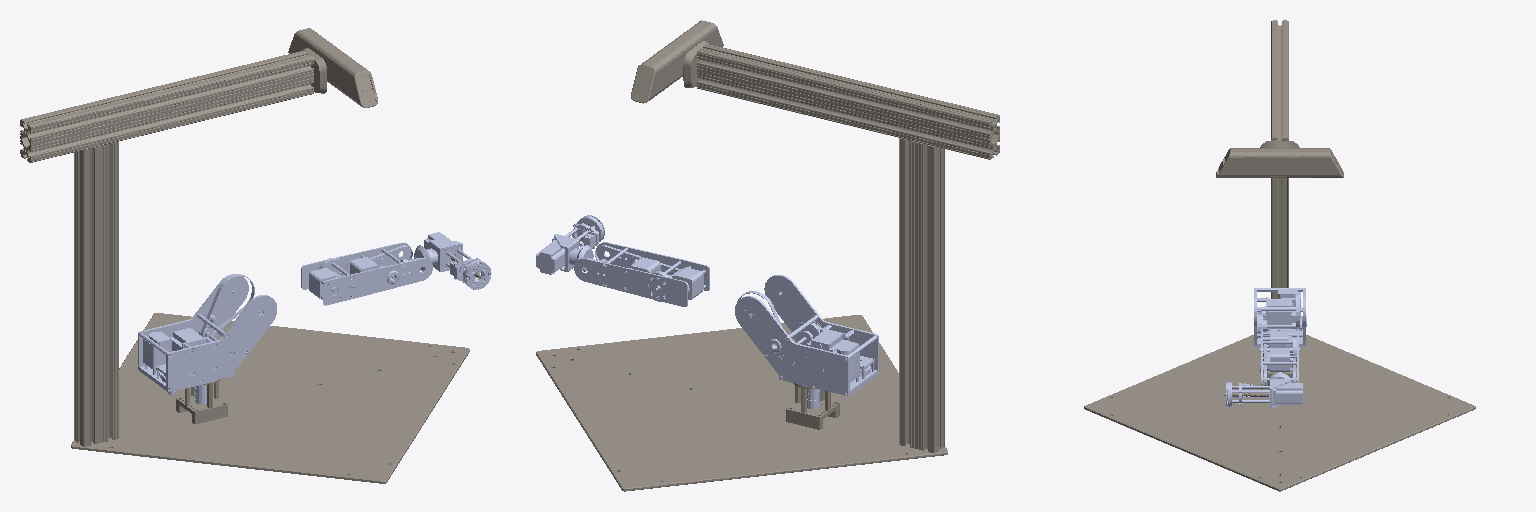
robot.urdf — dorna_2_config:
<?xml version="1.0" encoding="utf-8"?>
<!-- This URDF was automatically created by SolidWorks to URDF Exporter! Originally created by [author] ([email redacted]) 
     Commit Version: 1.6.0-1-g15f4949  Build Version: 1.6.7594.29634
     For more information, please see http://wiki.ros.org/sw_urdf_exporter -->
<robot
  name="dorna_2_config">
  <link
    name="base_link">
    <inertial>
      <origin
        xyz="0.12698 1.4251E-06 0.055207"
        rpy="0 0 0" />
      <mass
        value="20.928" />
      <inertia
        ixx="0"
        ixy="0"
        ixz="0"
        iyy="0"
        iyz="0"
        izz="0" />
    </inertial>
    <visual>
      <origin
        xyz="0 0 0"
        rpy="0 0 0" />
      <geometry>
        <mesh
          filename="package://dorna_2_config/meshes/base_link.STL" />
      </geometry>
      <material
        name="">
        <color
          rgba="0.64706 0.61961 0.58824 1" />
      </material>
    </visual>
    <collision>
      <origin
        xyz="0 0 0"
        rpy="0 0 0" />
      <geometry>
        <mesh
          filename="package://dorna_2_config/meshes/base_link_col.STL" />
      </geometry>
    </collision>
  </link>
  <link
    name="link_1">
    <inertial>
      <origin
        xyz="-0.022037 7.1084E-05 0.13277"
        rpy="0 0 0" />
      <mass
        value="0.70203" />
      <inertia
        ixx="0.0016762"
        ixy="0.00012689"
        ixz="-0.00047838"
        iyy="0.0028093"
        iyz="-3.1578E-05"
        izz="0.0029334" />
    </inertial>
    <visual>
      <origin
        xyz="0 0 0"
        rpy="0 0 0" />
      <geometry>
        <mesh
          filename="package://dorna_2_config/meshes/link_1.STL" />
      </geometry>
      <material
        name="">
        <color
          rgba="0.79216 0.81961 0.93333 1" />
      </material>
    </visual>
    <collision>
      <origin
        xyz="0 0 0"
        rpy="0 0 0" />
      <geometry>
        <mesh
          filename="package://dorna_2_config/meshes/link_1_col.STL" />
      </geometry>
    </collision>
  </link>
  <joint
    name="joint_0"
    type="revolute">
    <origin
      xyz="0 0 0"
      rpy="0 0 0" />
    <parent
      link="base_link" />
    <child
      link="link_1" />
    <axis
      xyz="0 0 1" />
    <limit
      lower="-2.7925"
      upper="3.1416"
      effort="10"
      velocity="10.472" />
  </joint>
  <link
    name="link_2">
    <inertial>
      <origin
        xyz="0.033004 -0.047997 1.1969E-06"
        rpy="0 0 0" />
      <mass
        value="0.32464" />
      <inertia
        ixx="0.00048989"
        ixy="6.9763E-05"
        ixz="1.952E-08"
        iyy="0.0017419"
        iyz="-9.866E-09"
        izz="0.0020909" />
    </inertial>
    <visual>
      <origin
        xyz="0 0 0"
        rpy="0 0 0" />
      <geometry>
        <mesh
          filename="package://dorna_2_config/meshes/link_2.STL" />
      </geometry>
      <material
        name="">
        <color
          rgba="0.79216 0.81961 0.93333 1" />
      </material>
    </visual>
    <collision>
      <origin
        xyz="0 0 0"
        rpy="0 0 0" />
      <geometry>
        <mesh
          filename="package://dorna_2_config/meshes/link_2_col.STL" />
      </geometry>
    </collision>
  </link>
  <joint
    name="joint_1"
    type="revolute">
    <origin
      xyz="0.095476 0.0508 0.20647"
      rpy="0 0 0" />
    <parent
      link="link_1" />
    <child
      link="link_2" />
    <axis
      xyz="0 1 0" />
    <limit
      lower="-3.1415"
      upper="1.5708"
      effort="10"
      velocity="7.854" />
  </joint>
  <link
    name="link_3">
    <inertial>
      <origin
        xyz="0.021064 -0.042837 -6.2521E-08"
        rpy="0 0 0" />
      <mass
        value="0.27313" />
      <inertia
        ixx="0.00021713"
        ixy="2.2442E-05"
        ixz="3.6407E-08"
        iyy="0.00085068"
        iyz="-1.2633E-08"
        izz="0.00098072" />
    </inertial>
    <visual>
      <origin
        xyz="0 0 0"
        rpy="0 0 0" />
      <geometry>
        <mesh
          filename="package://dorna_2_config/meshes/link_3.STL" />
      </geometry>
      <material
        name="">
        <color
          rgba="0.79216 0.81961 0.93333 1" />
      </material>
    </visual>
    <collision>
      <origin
        xyz="0 0 0"
        rpy="0 0 0" />
      <geometry>
        <mesh
          filename="package://dorna_2_config/meshes/link_3_col.STL" />
      </geometry>
    </collision>
  </link>
  <joint
    name="joint_2"
    type="revolute">
    <origin
      xyz="0.2032 -0.00635 0"
      rpy="0 0 0" />
    <parent
      link="link_2" />
    <child
      link="link_3" />
    <axis
      xyz="0 1 0" />
    <limit
      lower="-2.4784"
      upper="2.4784"
      effort="10"
      velocity="7.854" />
  </joint>
  <link
    name="link_4">
    <inertial>
      <origin
        xyz="-5.9653E-10 -0.041275 -1.0071E-09"
        rpy="0 0 0" />
      <mass
        value="0.076836" />
      <inertia
        ixx="5.639E-05"
        ixy="-2.2838E-13"
        ixz="-6.7695E-14"
        iyy="1.719E-05"
        iyz="1.776E-12"
        izz="5.5885E-05" />
    </inertial>
    <visual>
      <origin
        xyz="0 0 0"
        rpy="0 0 0" />
      <geometry>
        <mesh
          filename="package://dorna_2_config/meshes/link_4.STL" />
      </geometry>
      <material
        name="">
        <color
          rgba="0.79216 0.81961 0.93333 1" />
      </material>
    </visual>
    <collision>
      <origin
        xyz="0 0 0"
        rpy="0 0 0" />
      <geometry>
        <mesh
          filename="package://dorna_2_config/meshes/link_4_col.STL" />
      </geometry>
    </collision>
  </link>
  <joint
    name="joint_3"
    type="revolute">
    <origin
      xyz="0.1524 -0.003175 0"
      rpy="0 0 0" />
    <parent
      link="link_3" />
    <child
      link="link_4" />
    <axis
      xyz="0 -1 0" />
    <limit
      lower="-2.3562"
      upper="2.3562"
      effort="10"
      velocity="34.907" />
  </joint>
  <link
    name="link_5">
    <inertial>
      <origin
        xyz="0.088867 -0.033145 -2.1341E-05"
        rpy="0 0 0" />
      <mass
        value="0.28989" />
      <inertia
        ixx="0.00010845"
        ixy="2.7205E-06"
        ixz="1.2546E-08"
        iyy="8.8784E-05"
        iyz="2.4118E-08"
        izz="0.00010988" />
    </inertial>
    <visual>
      <origin
        xyz="0 0 0"
        rpy="0 0 0" />
      <geometry>
        <mesh
          filename="package://dorna_2_config/meshes/link_5.STL" />
      </geometry>
      <material
        name="">
        <color
          rgba="0.79216 0.81961 0.93333 1" />
      </material>
    </visual>
    <collision>
      <origin
        xyz="0 0 0"
        rpy="0 0 0" />
      <geometry>
        <mesh
          filename="package://dorna_2_config/meshes/link_5_col.STL" />
      </geometry>
    </collision>
  </link>
  <joint
    name="joint_4"
    type="continuous">
    <origin
      xyz="-0.021438 -0.041275 0"
      rpy="0 0 0" />
    <parent
      link="link_4" />
    <child
      link="link_5" />
    <axis
      xyz="-1 0 0" />
  </joint>
  <link
    name="link_6">
    <inertial>
      <origin
        xyz="-9.5404E-06 0.051551 1.0778E-07"
        rpy="0 0 0" />
      <mass
        value="0.054936" />
      <inertia
        ixx="7.5563E-06"
        ixy="7.2422E-09"
        ixz="1.4116E-11"
        iyy="1.0764E-06"
        iyz="-1.4264E-10"
        izz="7.5041E-06" />
    </inertial>
    <visual>
      <origin
        xyz="0 0 0"
        rpy="0 0 0" />
      <geometry>
        <mesh
          filename="package://dorna_2_config/meshes/link_6.STL" />
      </geometry>
      <material
        name="">
        <color
          rgba="0.64706 0.61961 0.58431 1" />
      </material>
    </visual>
    <collision>
      <origin
        xyz="0 0 0"
        rpy="0 0 0" />
      <geometry>
        <mesh
          filename="package://dorna_2_config/meshes/link_6_col.STL" />
      </geometry>
    </collision>
  </link>
  <joint
    name="joint_5"
    type="continuous">
    <origin
      xyz="0.097875 -0.12269 0"
      rpy="0 0 0" />
    <parent
      link="link_5" />
    <child
      link="link_6" />
    <axis
      xyz="0 1 0" />
  </joint>
</robot>

--- What the picture shows (computed from the rendered views, not written in the file) ---
3 views of the same robot in one strip: view 1: azimuth 30°, elevation 25°; view 2: azimuth 150°, elevation 25°; view 3: azimuth 270°, elevation 25° (orthographic).
Model dorna_2_config with 7 links and 6 joints (4 revolute, 2 continuous), rooted at base_link, posed all joints at 0.
Links seen in each view (by area): view 1: base_link, link_1, link_3, link_5; view 2: base_link, link_1, link_3, link_5; view 3: base_link, link_1, link_3, link_5.
Link boxes in pixels (left/top/right/bottom): base_link: left=20, top=28, right=469, bottom=483; link_1: left=138, top=274, right=276, bottom=403; link_3: left=301, top=243, right=432, bottom=305; link_5: left=400, top=232, right=491, bottom=289; base_link: left=536, top=20, right=999, bottom=491; link_1: left=735, top=275, right=878, bottom=408; link_3: left=574, top=242, right=709, bottom=306; link_5: left=536, top=215, right=607, bottom=274; base_link: left=1084, top=20, right=1475, bottom=491; link_1: left=1254, top=288, right=1306, bottom=347; link_3: left=1260, top=329, right=1299, bottom=389; link_5: left=1226, top=372, right=1302, bottom=407.
Bounding box of the posed robot: 0.9545 × 0.8564 × 0.6922 m (x, y, z).
5 mesh visuals loaded from 7 distinct referenced files (5 binary STL); not drawn: 2 (reference not matched to a file when rendering).